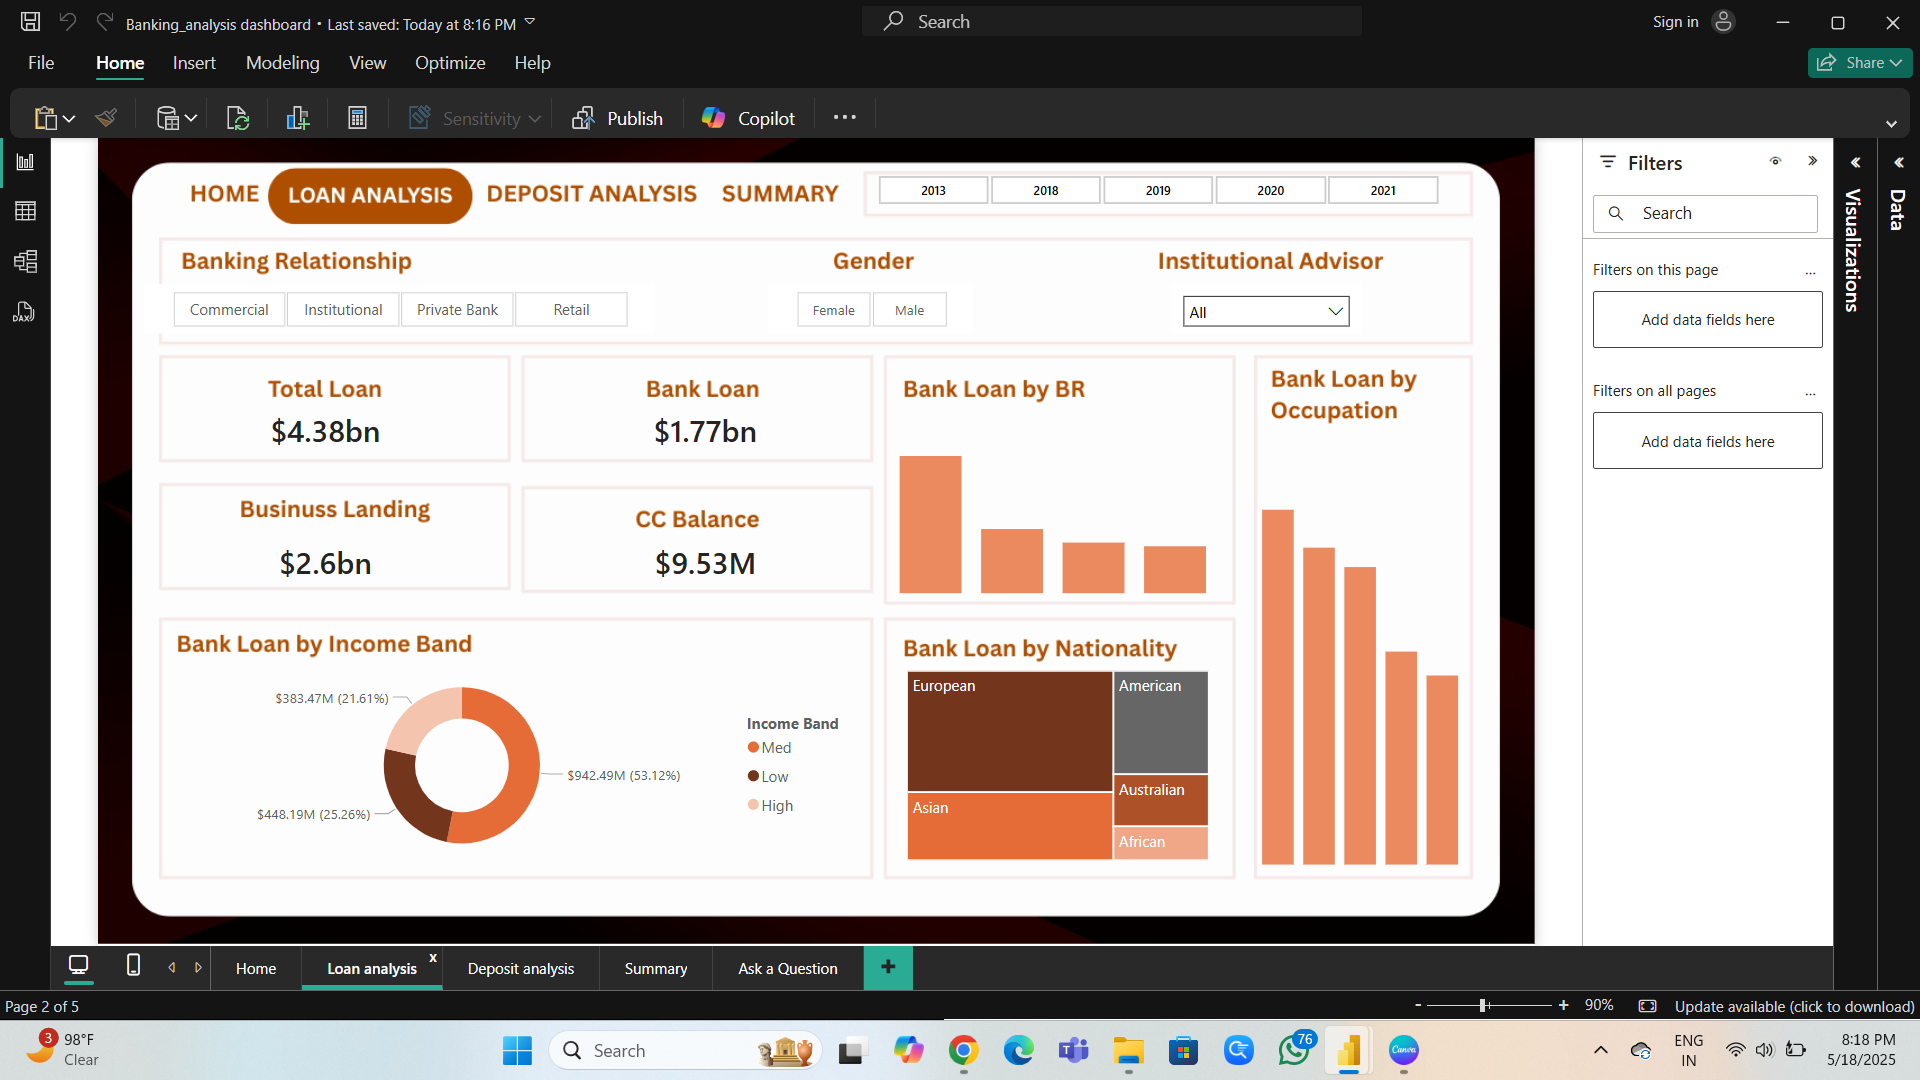

The page's visual inventory and layout, read from the dashboard file:
{"tool":"powerbi","page":{"name":"Loan analysis","canvas":[1280,720],"ordinal":1},"visuals":[{"type":"slicer","fields":{"Values":["Query1.Year of Joining"]},"box":[668.6,27.1,548.6,37.1],"z":0},{"type":"actionButton","box":[65.7,27.1,100,40],"z":1000},{"type":"actionButton","box":[341.4,27.1,200,40],"z":2000},{"type":"actionButton","box":[552.9,24.3,115.7,40],"z":3000},{"type":"card","fields":{"Values":["Query1.Total Loan"]},"box":[147.1,241.4,111.4,40],"z":4000},{"type":"card","fields":{"Values":["Sum(Query1.Bank Loans)"]},"box":[485.7,241.4,111.4,40],"z":5000},{"type":"card","fields":{"Values":["Sum(Query1.Business Lending)"]},"box":[147.1,360,111.4,40],"z":6000},{"type":"card","fields":{"Values":["Sum(Query1.Credit Card Balance)"]},"box":[485.7,360,111.4,40],"z":7000},{"type":"donutChart","fields":{"Category":["Query1.Income Band"],"Y":["Sum(Query1.Bank Loans)"]},"box":[65.7,465.7,617.1,187.1],"z":8000},{"type":"columnChart","fields":{"Category":["Query1.BRId"],"Y":["Sum(Query1.Bank Loans)"]},"box":[708.6,241.4,285.7,170],"z":9000},{"type":"columnChart","fields":{"Y":["Sum(Query1.Bank Loans)"],"Category":["Query1.Occupation"]},"box":[1031.4,295.7,185.7,357.1],"z":10000},{"type":"slicer","fields":{"Values":["Query1.BRId"]},"box":[41.4,130,454.3,44.3],"z":11000},{"type":"slicer","fields":{"Values":["Query1.GenderId"]},"box":[597.1,130,182.9,44.3],"z":12000},{"type":"slicer","fields":{"Values":["Query1.IAId"]},"box":[955.7,130,168.6,44.3],"z":13000},{"type":"treemap","fields":{"Group":["Query1.Nationality"],"Values":["Sum(Query1.Bank Loans)"]},"box":[715.7,470,278.6,178.6],"z":14000}]}

Visuals, with their boxes on the page's 1280x720 design canvas (x1, y1, x2, y2). These are canvas units, not pixel positions in the 1920x1080 screenshot, which may show the page scaled, cropped or inside an application window:
slicer - Query1.Year of Joining: <region>669, 27, 1217, 64</region>
actionButton: <region>66, 27, 166, 67</region>
actionButton: <region>341, 27, 541, 67</region>
actionButton: <region>553, 24, 669, 64</region>
card - Query1.Total Loan: <region>147, 241, 258, 281</region>
card - Sum(Query1.Bank Loans): <region>486, 241, 597, 281</region>
card - Sum(Query1.Business Lending): <region>147, 360, 258, 400</region>
card - Sum(Query1.Credit Card Balance): <region>486, 360, 597, 400</region>
donutChart - Query1.Income Band x Sum(Query1.Bank Loans): <region>66, 466, 683, 653</region>
columnChart - Query1.BRId x Sum(Query1.Bank Loans): <region>709, 241, 994, 411</region>
columnChart - Sum(Query1.Bank Loans) x Query1.Occupation: <region>1031, 296, 1217, 653</region>
slicer - Query1.BRId: <region>41, 130, 496, 174</region>
slicer - Query1.GenderId: <region>597, 130, 780, 174</region>
slicer - Query1.IAId: <region>956, 130, 1124, 174</region>
treemap - Query1.Nationality x Sum(Query1.Bank Loans): <region>716, 470, 994, 649</region>
